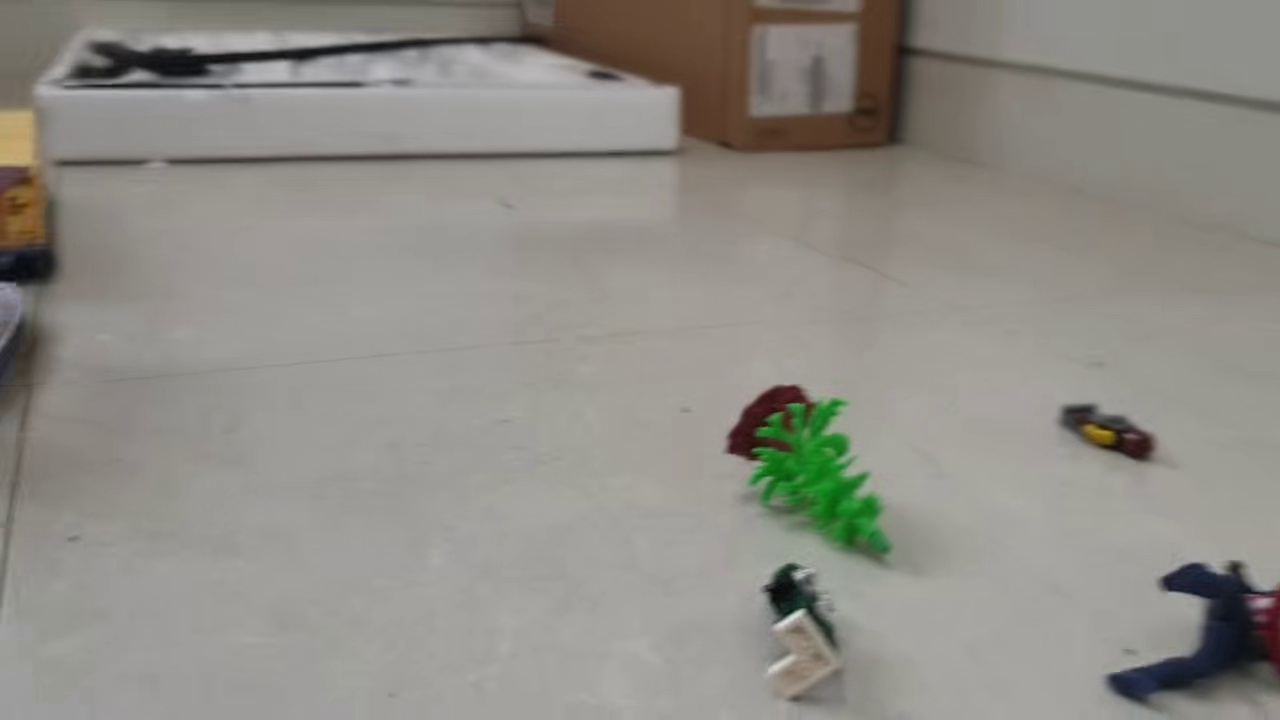people: (1106, 556, 1280, 703), (763, 560, 851, 701), (1056, 401, 1159, 461)
tree: (725, 383, 899, 567)
